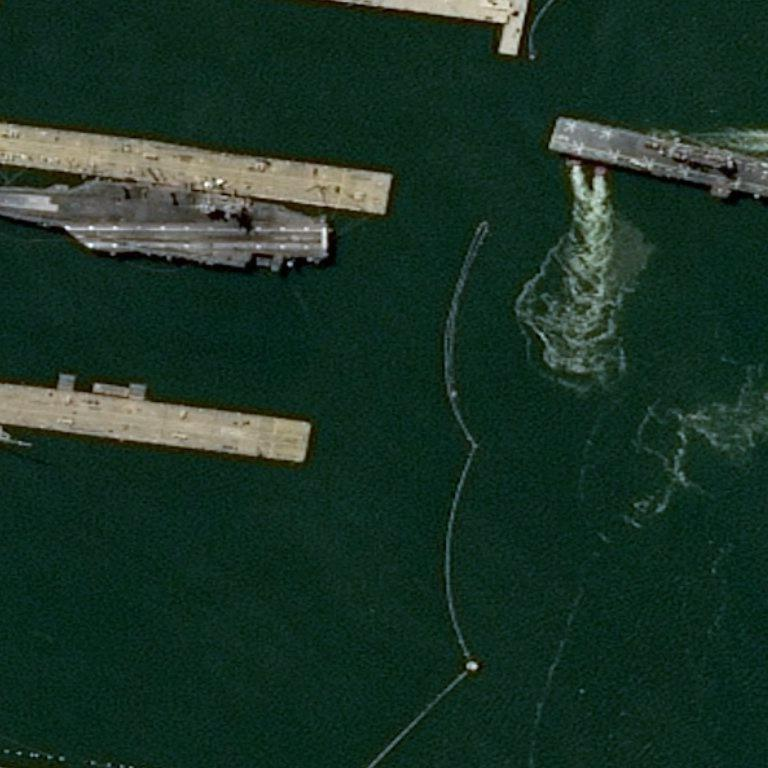ship: (0, 209, 325, 245), (550, 145, 768, 174), (1, 197, 11, 208), (554, 126, 563, 137), (313, 252, 323, 261), (311, 219, 321, 228), (759, 34, 767, 44), (762, 161, 767, 166)
